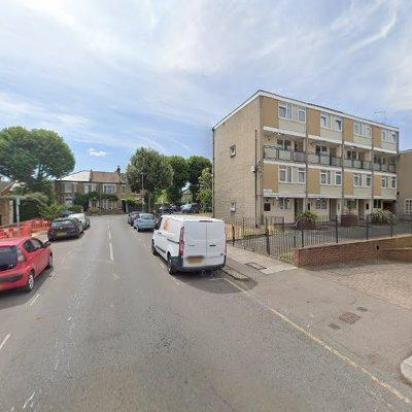stationary-car-onstreet: (0, 236, 56, 298), (48, 216, 83, 240), (132, 212, 156, 232), (68, 213, 90, 229), (127, 212, 137, 224)
stationary-light-truck-onstreet: (150, 214, 226, 276)
